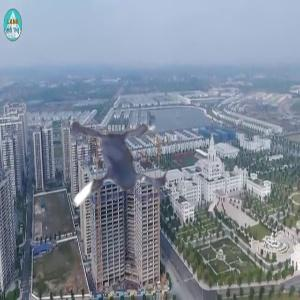drone: (11, 87, 187, 263)
